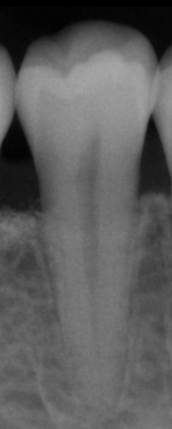tooth: (17, 22, 157, 406)
